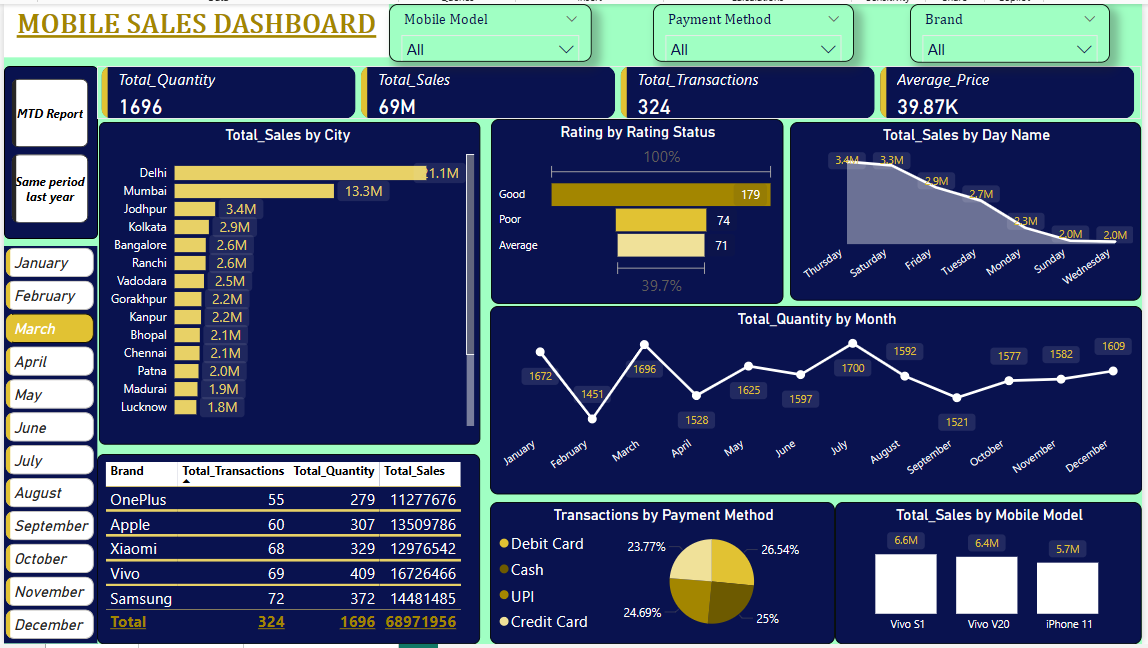

The page's visual inventory and layout, read from the dashboard file:
{"tool":"powerbi","page":{"name":"Dasboard","canvas":[1280,720],"ordinal":0},"visuals":[{"type":"shape","box":[0,69.8,105.8,194.6],"z":0},{"type":"textbox","box":[0,0,433.1,60.4],"z":1000},{"type":"cardVisual","fields":{"Data":["Sales_Data.Total_Quantity","Sales_Data.Total_Sales","Sales_Data.Total_Transactions","Sales_Data.Average_Price"]},"box":[104.6,69.8,1174.5,59.6],"z":2000},{"type":"slicer","fields":{"Values":["Sales_Data.Mobile Model"]},"box":[433.1,0,228.4,65.2],"z":3000},{"type":"slicer","fields":{"Values":["Sales_Data.Payment Method"]},"box":[730.1,0,226.1,65.2],"z":4000},{"type":"slicer","fields":{"Values":["Sales_Data.Brand"]},"box":[1019.1,0,224.9,65.5],"z":5000},{"type":"advancedSlicerVisual","fields":{"Values":["Custom_Calender.Date.Variation.Date Hierarchy.Month"]},"box":[0,272.4,105.4,447.2],"z":6000},{"type":"lineChart","fields":{"Category":["Custom_Calender.Date.Variation.Date Hierarchy.Month"],"Y":["Sales_Data.Total_Quantity"]},"box":[546.8,339.8,733.5,211.5],"z":7000},{"type":"funnel","title":"Rating by Rating Status","fields":{"Category":["Sales_Data.Ratings_Status"],"Y":["CountNonNull(Sales_Data.Customer Ratings)"]},"box":[547.9,129.4,328.5,208.1],"z":8000},{"type":"pieChart","title":"Transactions by Payment Method","fields":{"Y":["Sales_Data.Total_Transactions"],"Category":["Sales_Data.Payment Method"]},"box":[546.8,560.2,388.1,159.8],"z":9000},{"type":"columnChart","fields":{"Category":["Sales_Data.Mobile Model"],"Y":["Sales_Data.Total_Sales"]},"box":[934.9,560.2,345.4,159.8],"z":10000},{"type":"areaChart","fields":{"Category":["Custom_Calender.Day Name"],"Y":["Sales_Data.Total_Sales"]},"box":[884.2,132.8,394.9,201.4],"z":11000},{"type":"tableEx","fields":{"Values":["Sales_Data.Brand","Sales_Data.Total_Transactions","Sales_Data.Total_Quantity","Sales_Data.Total_Sales"]},"box":[104.6,506.2,430.9,213.8],"z":12000},{"type":"barChart","fields":{"Category":["Sales_Data.City"],"Y":["Sales_Data.Total_Sales"]},"box":[106.9,132.8,428.6,363.4],"z":13000},{"type":"pageNavigator","box":[6.8,82.1,92.2,169.9],"z":14000}]}

Visuals, with their boxes in screenshot pixels (x1, y1, x2, y2), scaled from the page's 1280x720 canvas onto the 1148x648 screenshot:
shape: x1=0, y1=63, x2=95, y2=238
textbox: x1=0, y1=0, x2=388, y2=54
cardVisual - Sales_Data.Total_Quantity x Sales_Data.Total_Sales: x1=94, y1=63, x2=1147, y2=116
slicer - Sales_Data.Mobile Model: x1=388, y1=0, x2=593, y2=59
slicer - Sales_Data.Payment Method: x1=655, y1=0, x2=858, y2=59
slicer - Sales_Data.Brand: x1=914, y1=0, x2=1116, y2=59
advancedSlicerVisual - Custom_Calender.Date.Variation.Date Hierarchy.Month: x1=0, y1=245, x2=95, y2=647
lineChart - Custom_Calender.Date.Variation.Date Hierarchy.Month x Sales_Data.Total_Quantity: x1=490, y1=306, x2=1147, y2=496
"Rating by Rating Status" funnel: x1=491, y1=116, x2=786, y2=304
"Transactions by Payment Method" pieChart: x1=490, y1=504, x2=838, y2=647
columnChart - Sales_Data.Mobile Model x Sales_Data.Total_Sales: x1=838, y1=504, x2=1147, y2=647
areaChart - Custom_Calender.Day Name x Sales_Data.Total_Sales: x1=793, y1=120, x2=1147, y2=301
tableEx - Sales_Data.Brand x Sales_Data.Total_Transactions: x1=94, y1=456, x2=480, y2=647
barChart - Sales_Data.City x Sales_Data.Total_Sales: x1=96, y1=120, x2=480, y2=447
pageNavigator: x1=6, y1=74, x2=89, y2=227
